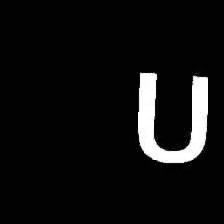LTR_U: (127, 63, 212, 170)
